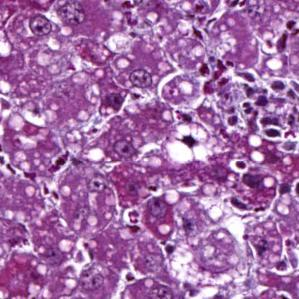ballooning: (159, 120, 214, 170)
